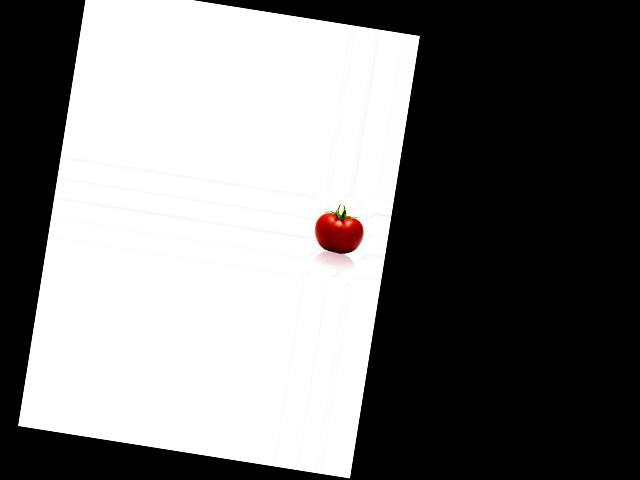tomato: (311, 210, 366, 256)
